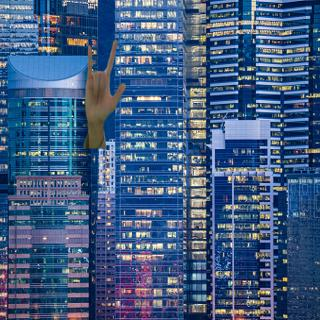ILY: (82, 38, 128, 129)
